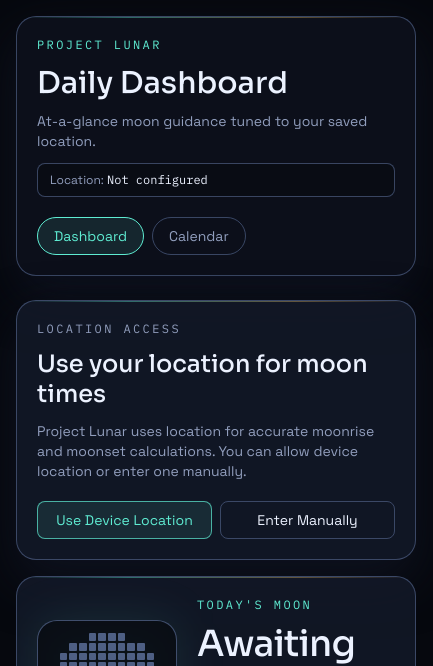
Test: Location permission and fallback flow › falls back to manual entry when permission is denied
Click the button "Use Device Location" at {"x": 124, "y": 520}, box [37,500,212,538]
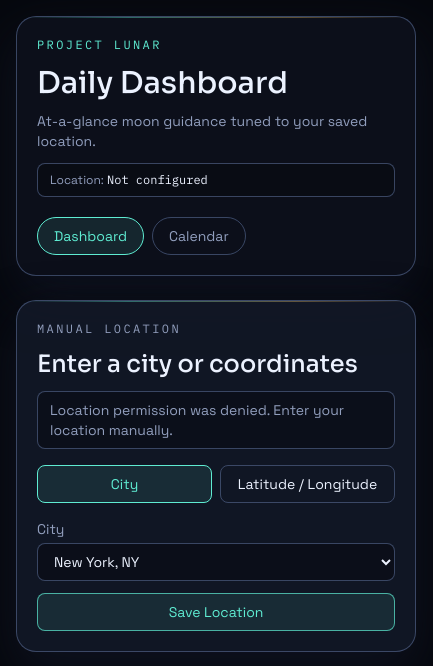
expect the heading "Enter a city or coordinates" is shown: met, box [37,348,395,378]
expect the message reads "Location permission was denied. Enter your location manually.": met, box [50,400,344,438]
Select "Chicago, IL" in the dropdown labelled "City" at {"x": 216, "y": 562}, box [37,542,395,580]
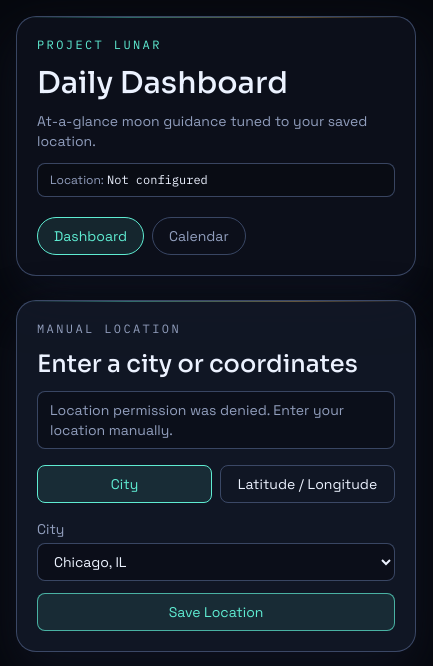
Click the button "Save Location" at {"x": 216, "y": 612}, box [37,592,395,630]
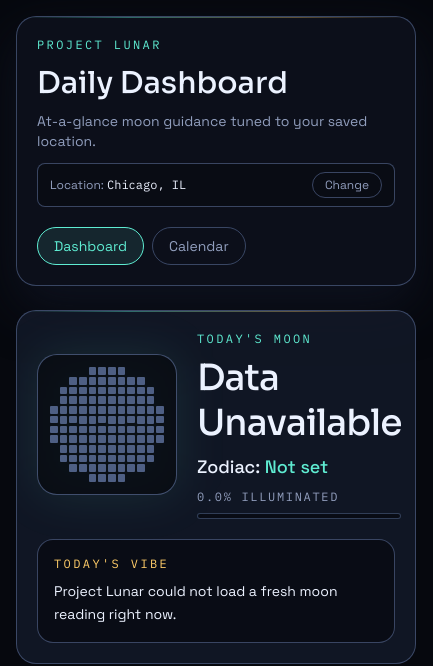
expect the text "Chicago, IL" is shown: met, box [107,176,186,192]
